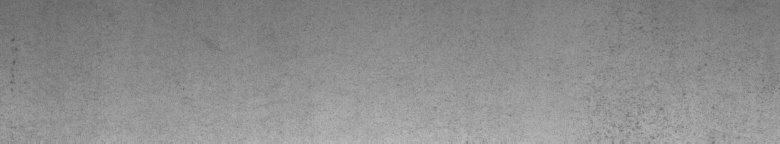ib: (608, 28, 763, 136)
